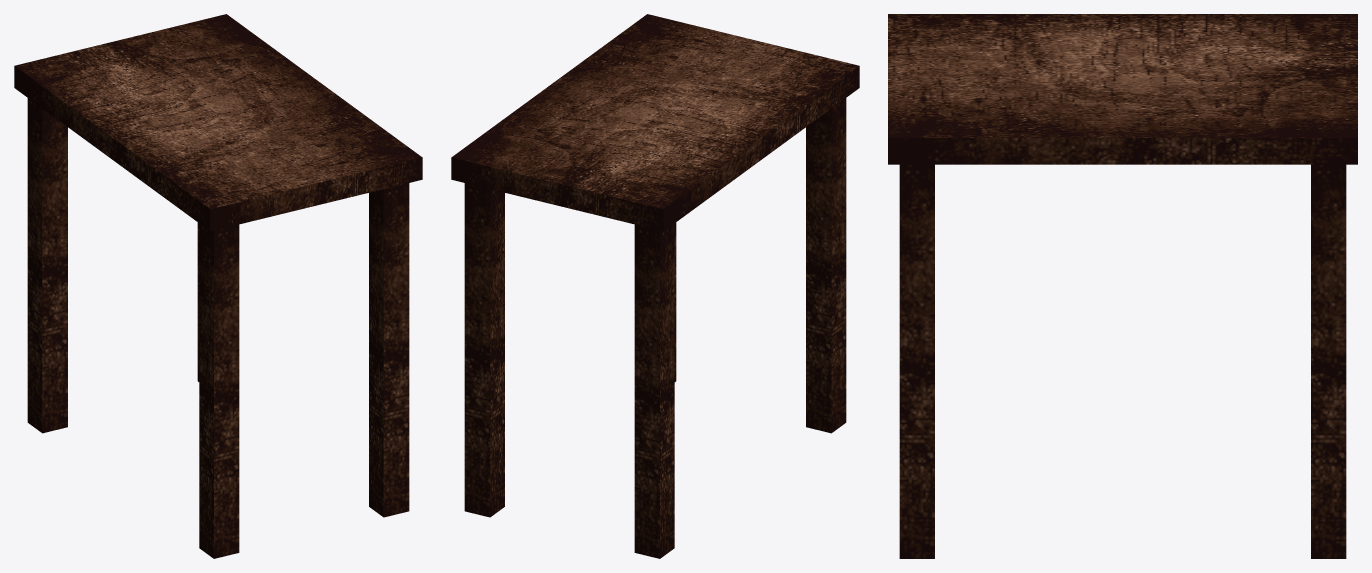
File: Mesa_1.fbx
3 renders of one model, left to right at view 1: azimuth 30°, elevation 25°; view 2: azimuth 150°, elevation 25°; view 3: azimuth 270°, elevation 25°, orthographic. The views are drawn at different scales.
Parts seen in each view (by area): view 1: Mesa_1; view 2: Mesa_1; view 3: Mesa_1.
Boxes of the visible parts, x1,y1,x2,y2 form: Mesa_1: (14, 14, 422, 558); Mesa_1: (451, 14, 859, 558); Mesa_1: (888, 14, 1357, 558).
Bounding box in the file's own units: 0.5 × 0.8 × 0.8.
